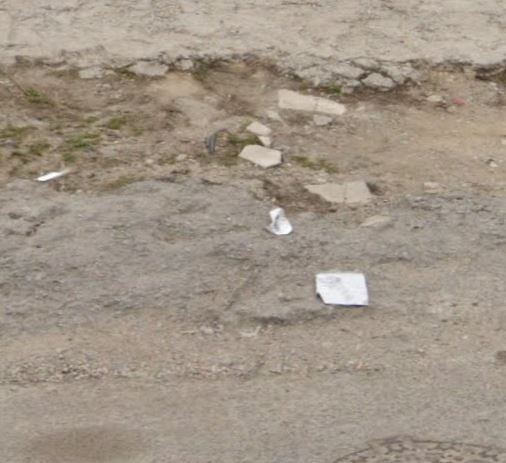trash: (309, 271, 374, 307), (265, 202, 297, 235), (31, 161, 75, 184)
